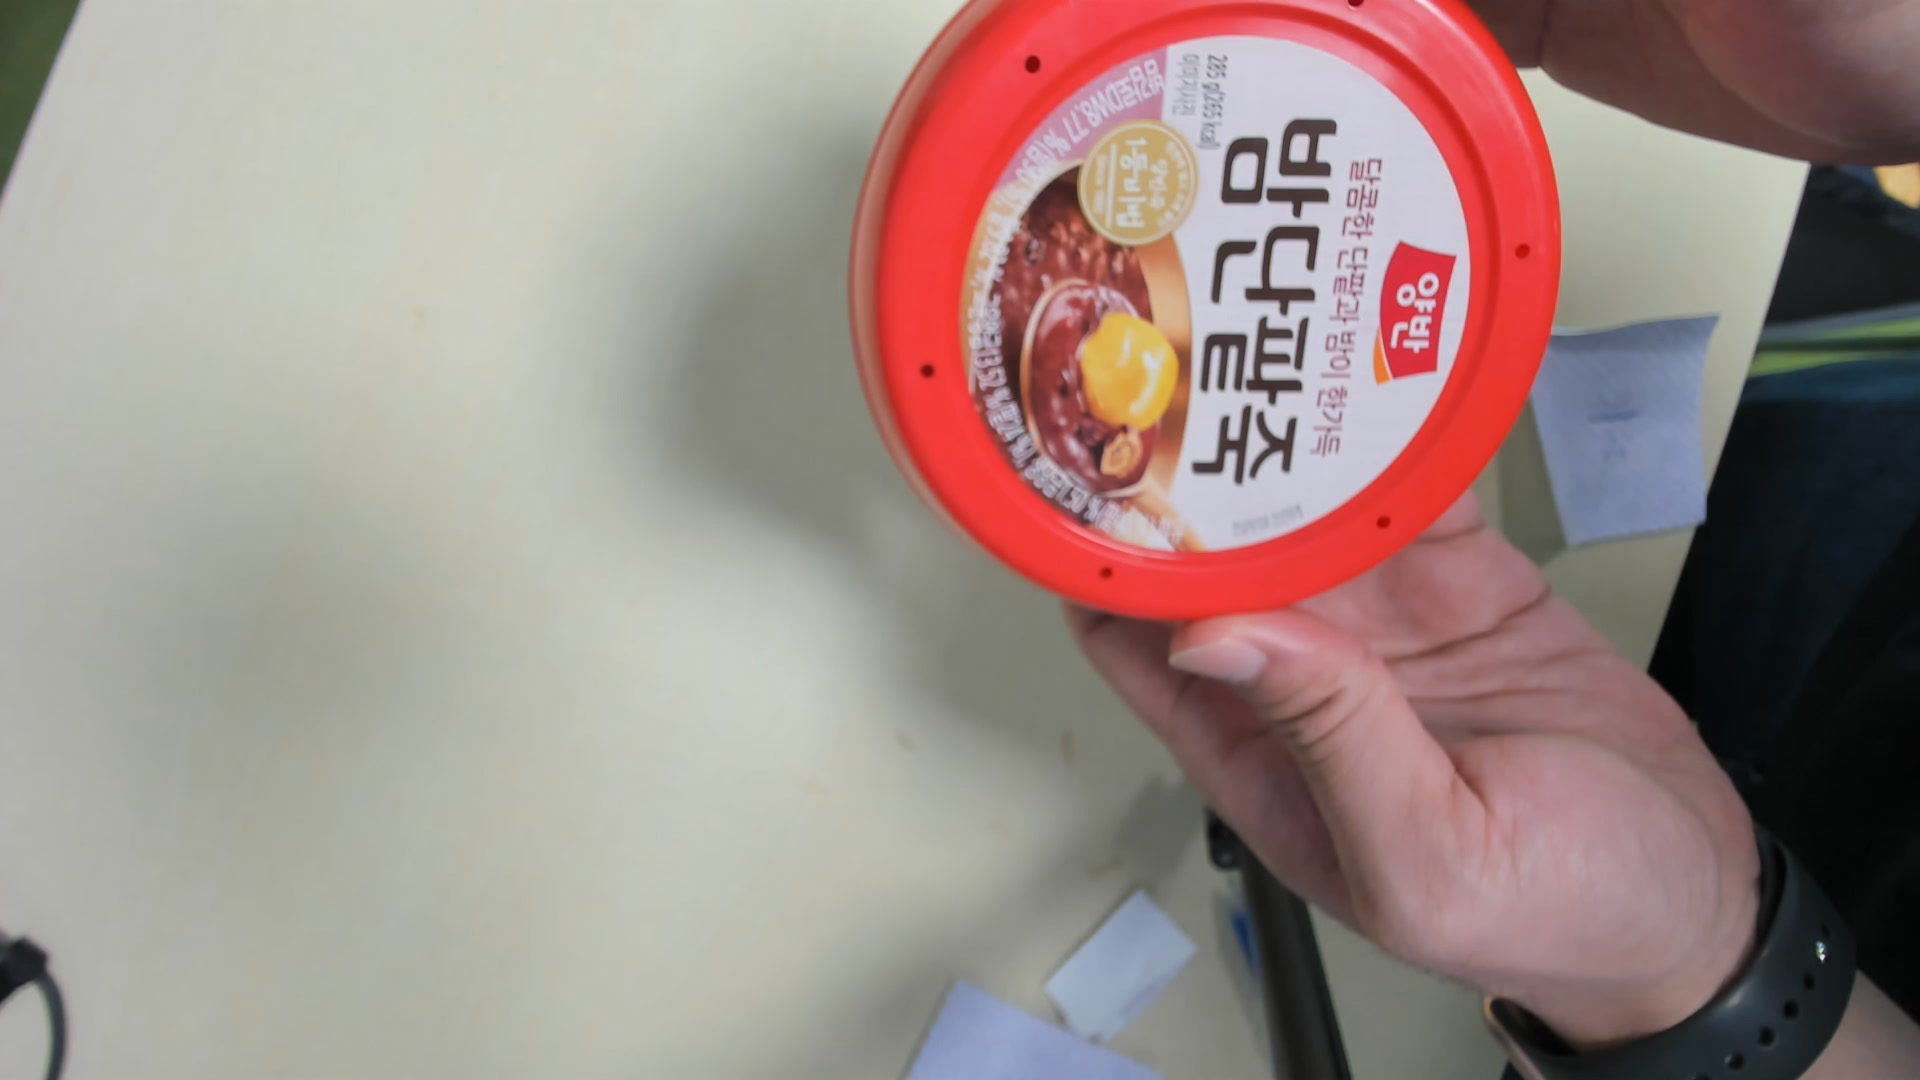InstantMeals_200_299g_NonHalal_NonHealthy: (851, 1, 1569, 641)
